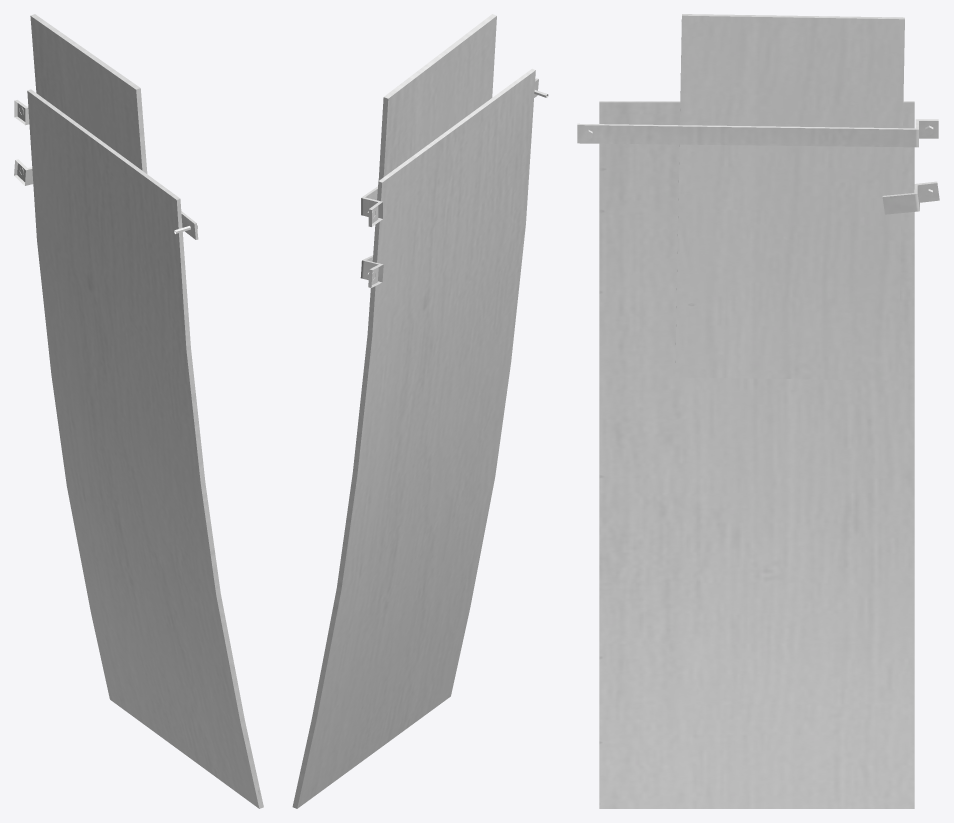
File: S_RunnerRamp_01.dae
3 renders of one model, left to right at view 1: azimuth 30°, elevation 25°; view 2: azimuth 150°, elevation 25°; view 3: azimuth 270°, elevation 25°, orthographic. The views are drawn at different scales.
Visible parts, largest first — view 1: S_RunnerRamp_01.001, S_RunnerRamp_01.002; view 2: S_RunnerRamp_01.001, S_RunnerRamp_01.002; view 3: S_RunnerRamp_01.001, S_RunnerRamp_01.002.
Part boxes in pixels (bbox=[...]): S_RunnerRamp_01.001: bbox=[27, 14, 263, 808]; S_RunnerRamp_01.002: bbox=[14, 100, 198, 239]; S_RunnerRamp_01.001: bbox=[292, 14, 535, 808]; S_RunnerRamp_01.002: bbox=[360, 78, 548, 287]; S_RunnerRamp_01.001: bbox=[599, 14, 914, 808]; S_RunnerRamp_01.002: bbox=[577, 119, 939, 214].
Size of the model in its own units: 0.4637 by 1.47 by 3.36.
